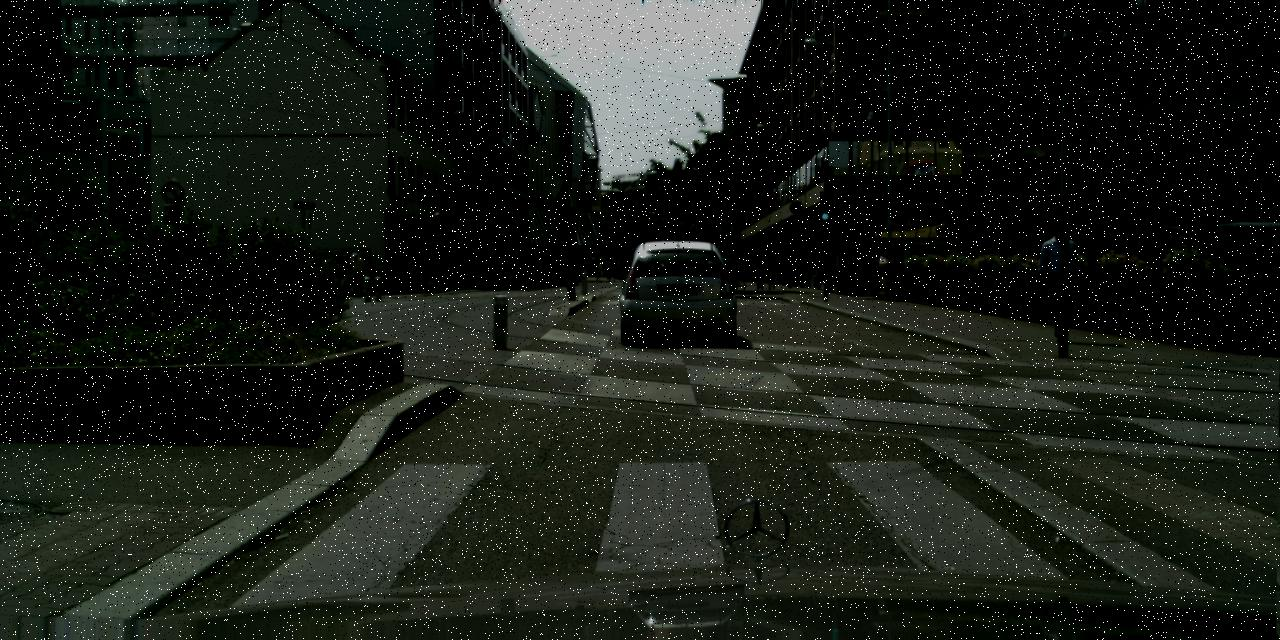ped: (1038, 218, 1088, 343), (871, 248, 890, 293), (876, 250, 894, 295), (347, 252, 365, 296), (334, 257, 348, 295), (764, 254, 778, 289), (753, 258, 766, 288), (784, 257, 796, 287), (420, 260, 430, 289), (578, 266, 596, 278), (608, 261, 616, 281), (479, 264, 486, 285), (599, 268, 600, 273)
